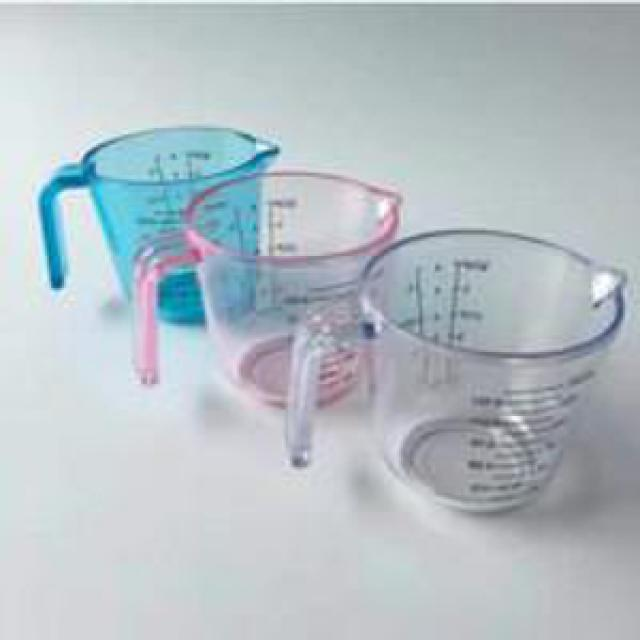plastic cup: (277, 222, 634, 527), (124, 167, 405, 420), (32, 124, 284, 335)
